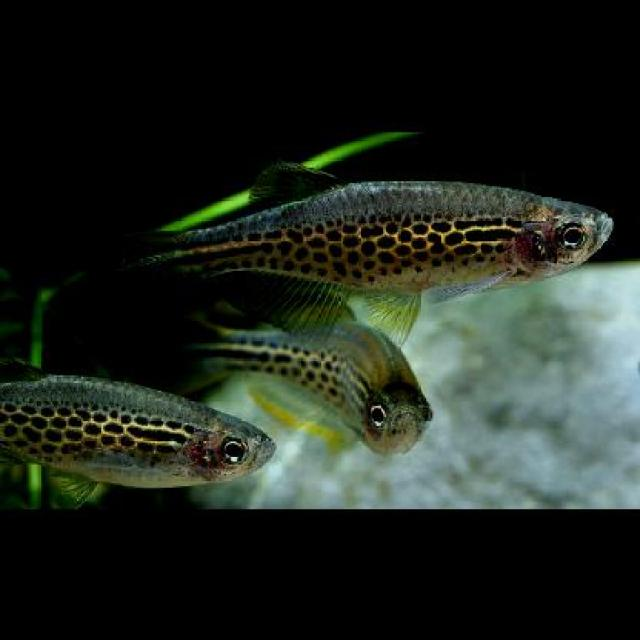ZebraFish: (87, 156, 618, 330)
